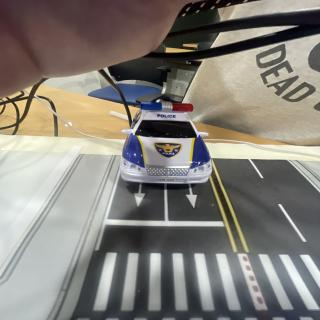Police_car: (120, 102, 212, 183)
